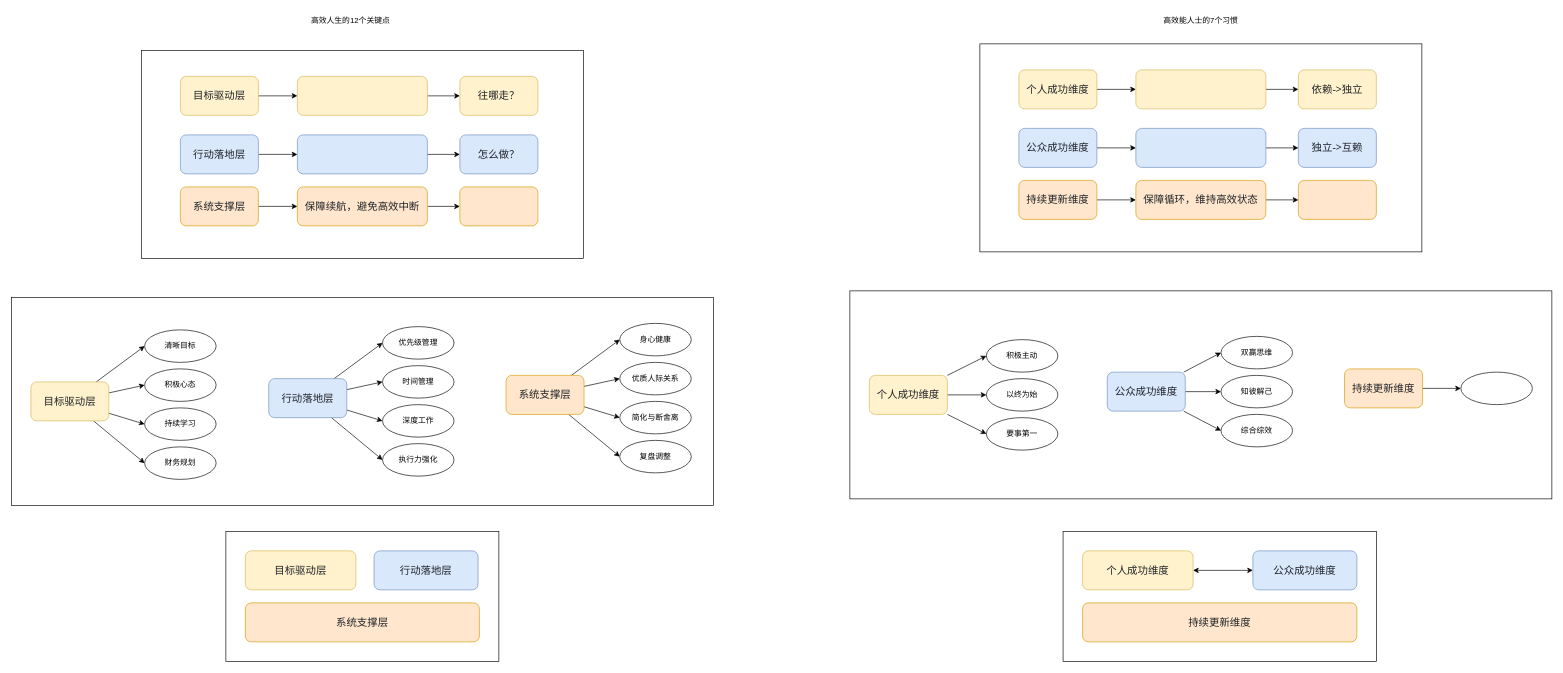
Some shapes in this 1563 by 673 pixel diagram are drawn without their labels. The box of each missing label's shape, as (x1, y1, x2, y2) in pixels:
不断更新: (1460, 371, 1532, 405)
可持续？: (459, 186, 538, 226)
实现互赖，放大高效价值: (1135, 128, 1266, 167)
实现独立，打好高效基础: (1135, 69, 1266, 109)
明确方向，激活内在动力: (297, 76, 427, 115)
聚焦执行，转化目标为成果: (297, 134, 427, 174)
贯穿全阶段: (1298, 180, 1376, 219)
